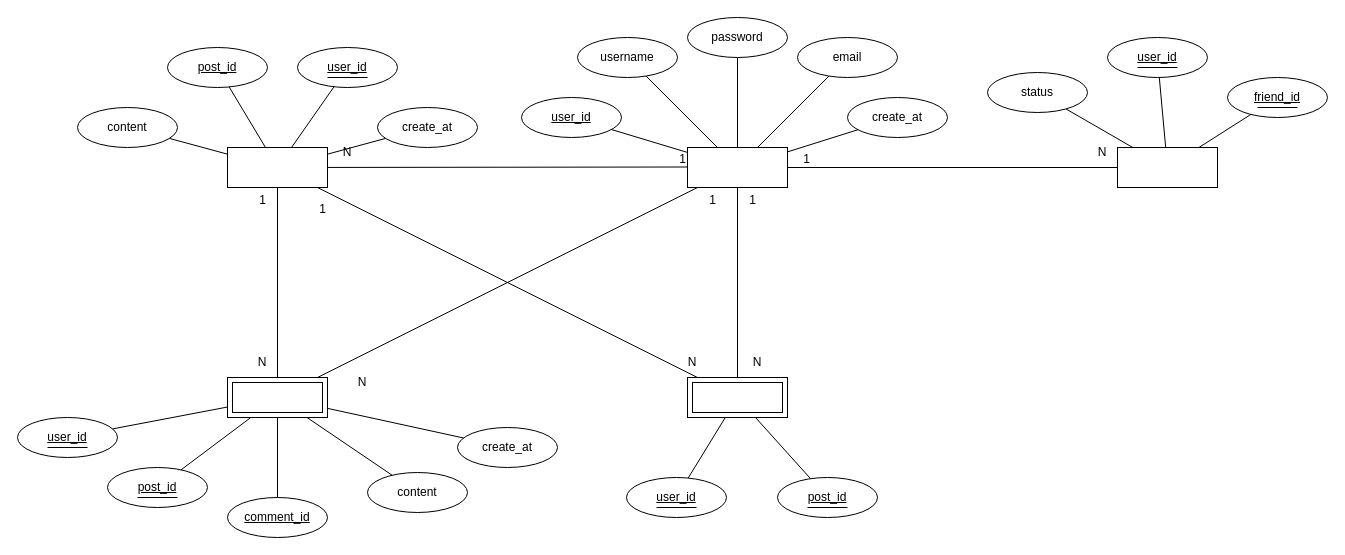
Some shapes in this 1345 by 555 pixel diagram are drawn without their labels. Each missing label, with the centre of its shape:
Comments: (x=277, y=397)
Friends: (x=1167, y=167)
Likes: (x=737, y=397)
Posts: (x=277, y=167)
Users: (x=737, y=167)
